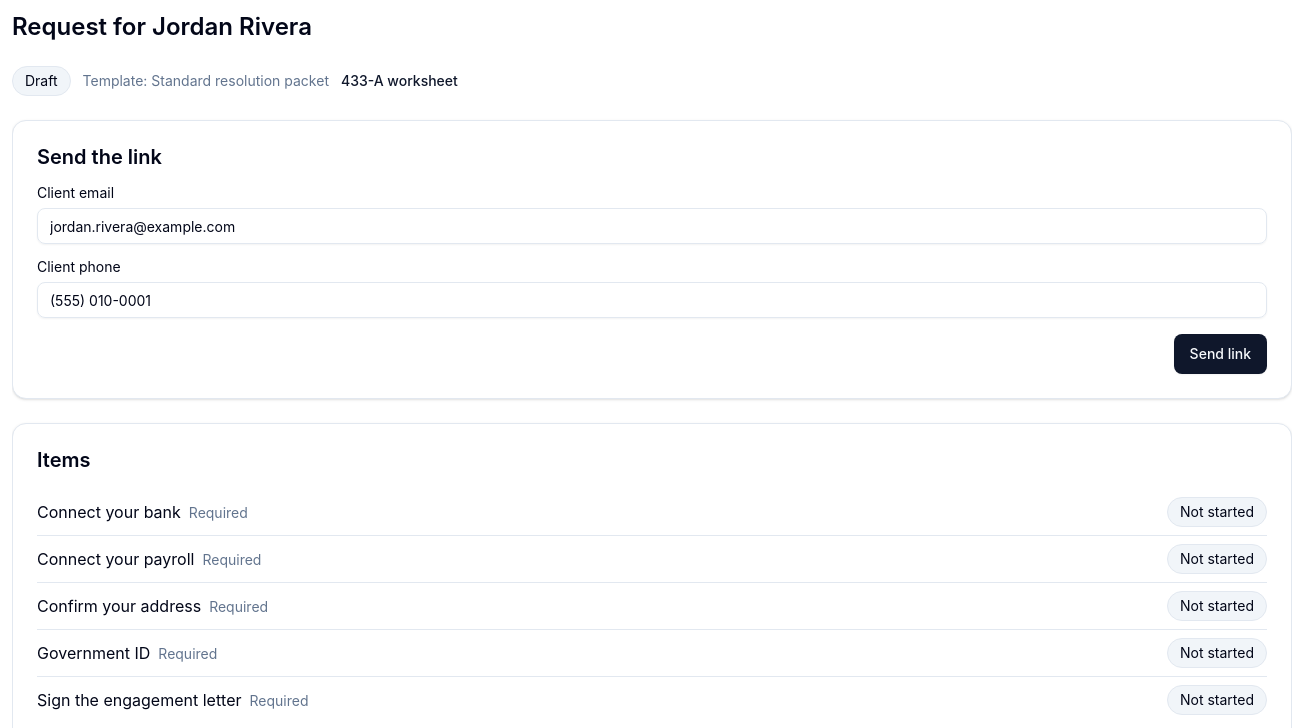
RequestPage › refuses with the case-changed alert and shows no link
This screenshot has width=1292, height=728.
Click the button "Send link". click: (1220, 354)
box: [1174,334,1267,374]
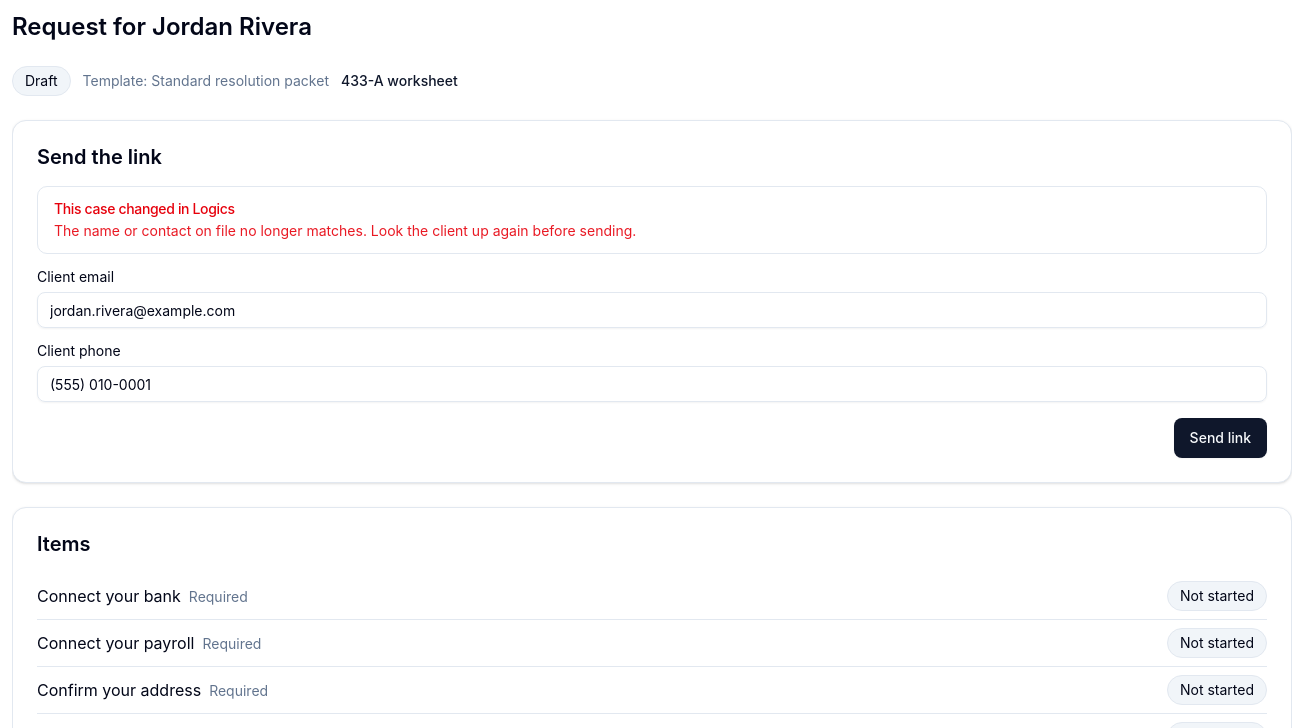
expect the message shows "This case changed in Logics": met, box [54,200,235,217]
expect the text "Look the client up again before sending." is shown: met, box [54,222,636,239]
